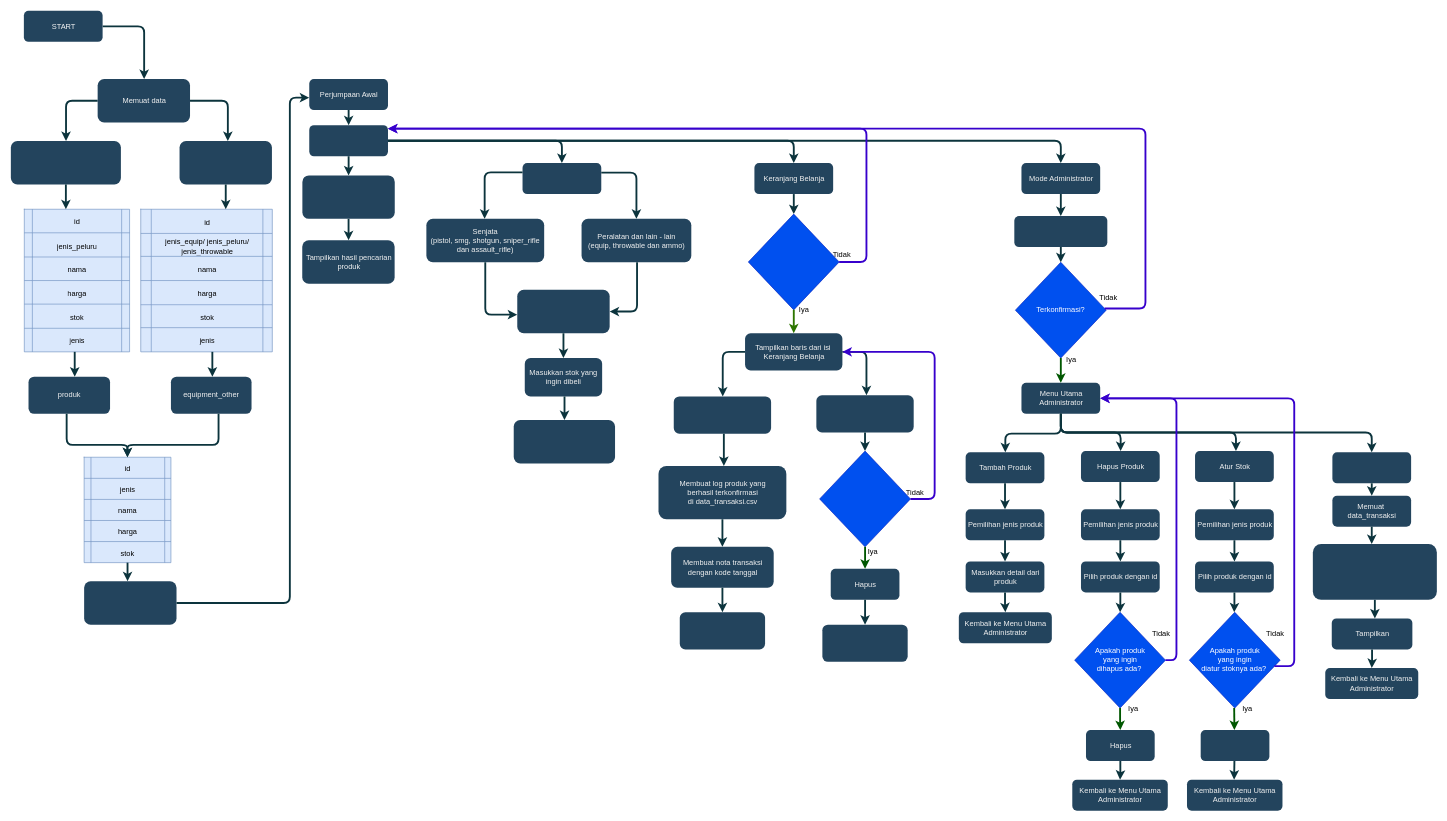
Image size: 1447x821. Some labels were removed from this diagram. The shapes that lost their labels are listed below. From the top down, each one's centre as x and y in pixels, then its label:
At pixel 348 140: "Menu Utama".
At pixel 66 162: "pistol, smg, shotgun, sniper_rifle dan assault_rifle".
At pixel 225 162: "equip, throwable, dan ammo".
At pixel 561 178: "Pemilihan Produk".
At pixel 348 197: "Pencarian isi di full_produk (Berdasarkan Nama)".
At pixel 1060 231: "Konfirmasi keamanan".
At pixel 793 261: "Apakah Keranjang Belanja berisi?".
At pixel 563 311: "Tampilkan list jenis produk yang dipilih".
At pixel 722 414: "Konfirmasi pembelian".
At pixel 864 413: "Hapus baris sebuah produk berdasarkan baris".
At pixel 564 441: "Input ke Queue Keranjang Belanja".
At pixel 1371 467: "Perhitungan Transaksi".
At pixel 864 498: "Apakah produk ingin dihapus ada?".
At pixel 1375 572: "Pemilihan perhitungan transaksi (harian,mingguan,bulanan dan tahunan)".
At pixel 130 602: "full_produk".
At pixel 722 630: "Kembali ke Menu Utama".
At pixel 864 643: "Kembali ke Keranjang Belanja".
At pixel 1234 745: "Atur".
